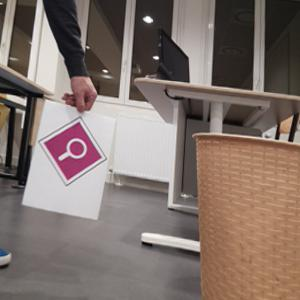search: (38, 117, 107, 185)
